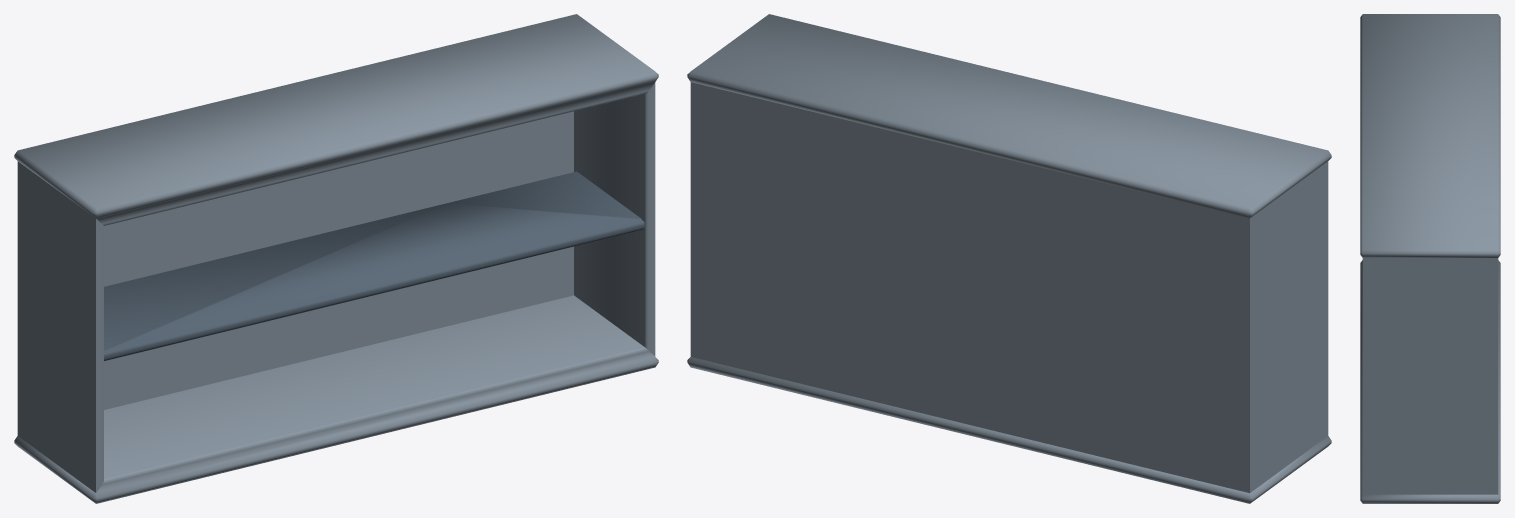
The model's file is Wall-Shelf--3.fbx.
3 views of the same model, side by side, from view 1: azimuth 30°, elevation 25°; view 2: azimuth 150°, elevation 25°; view 3: azimuth 270°, elevation 25° (orthographic). The views are drawn at different scales.
Parts seen in each view (by area): view 1: Wall-Shelf-3; view 2: Wall-Shelf-3; view 3: Wall-Shelf-3.
Boxes of the visible parts, x1,y1,x2,y2 form: Wall-Shelf-3: (14, 14, 658, 503); Wall-Shelf-3: (687, 14, 1331, 503); Wall-Shelf-3: (1360, 14, 1500, 503).
Size of the model in its own units: 2 by 1 by 0.5.
